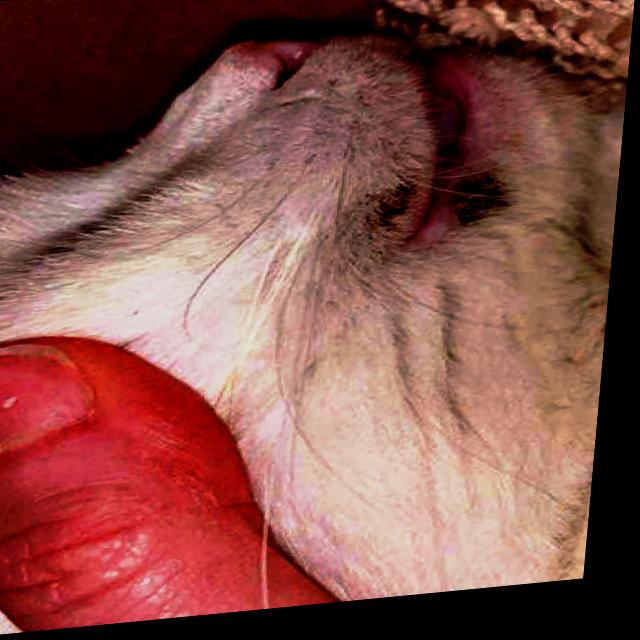acne: (435, 160, 514, 227), (361, 181, 440, 242)
